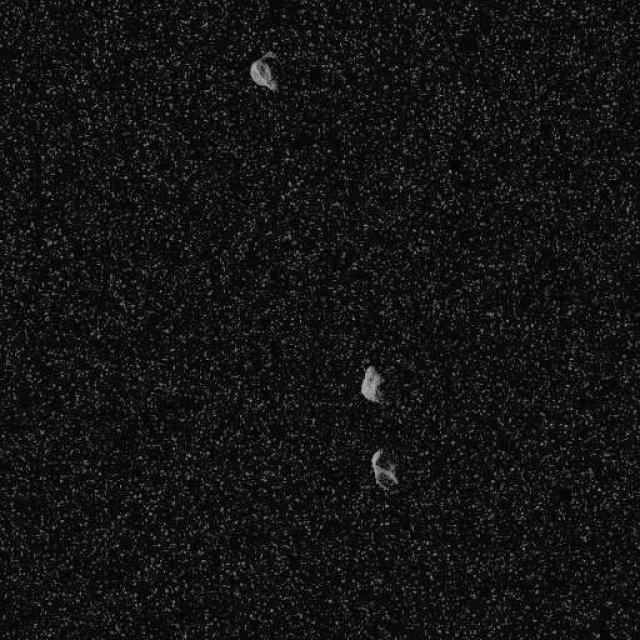D2: (249, 50, 281, 92), (370, 446, 399, 490), (359, 364, 386, 404)
